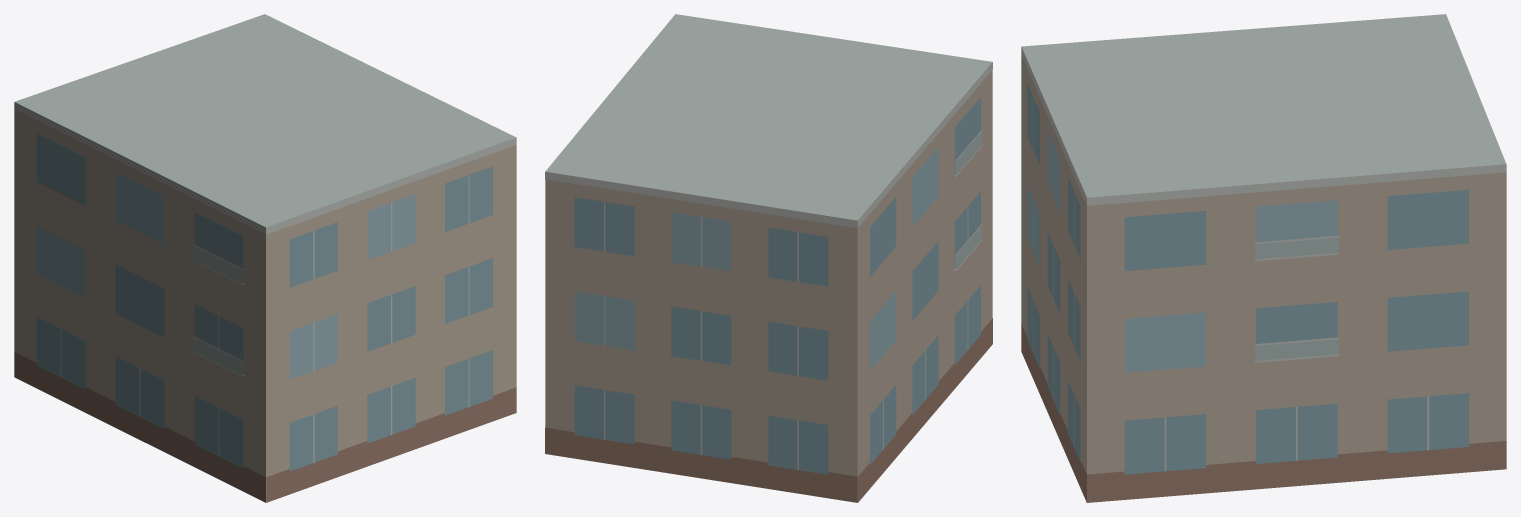
Rendered from survey-upis-32620008.glb.
3 renders of one model, left to right at view 1: azimuth 30°, elevation 25°; view 2: azimuth 150°, elevation 25°; view 3: azimuth 270°, elevation 25°, orthographic. The views are drawn at different scales.
Parts seen in each view (by area): view 1: survey-upis-32620008.tmp; view 2: survey-upis-32620008.tmp; view 3: survey-upis-32620008.tmp.
Part boxes in pixels (box(x1,y1,x2,y2)): survey-upis-32620008.tmp: box(14, 14, 516, 502); survey-upis-32620008.tmp: box(545, 14, 992, 502); survey-upis-32620008.tmp: box(1021, 14, 1506, 502).
Bounding box in the file's own units: 11.84 × 9.15 × 13.2.
